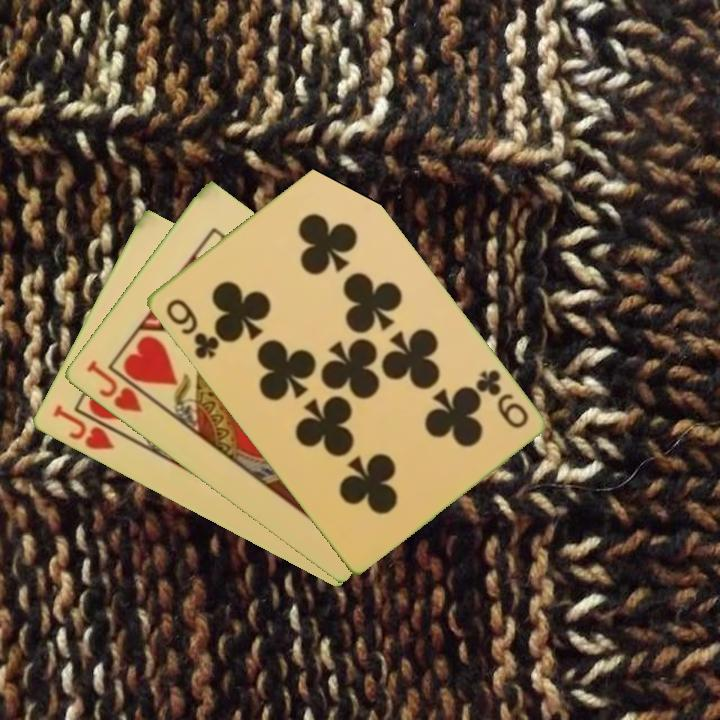9c: (161, 295, 222, 362), (471, 365, 531, 431)
Jh: (82, 357, 157, 416), (49, 401, 128, 453)
